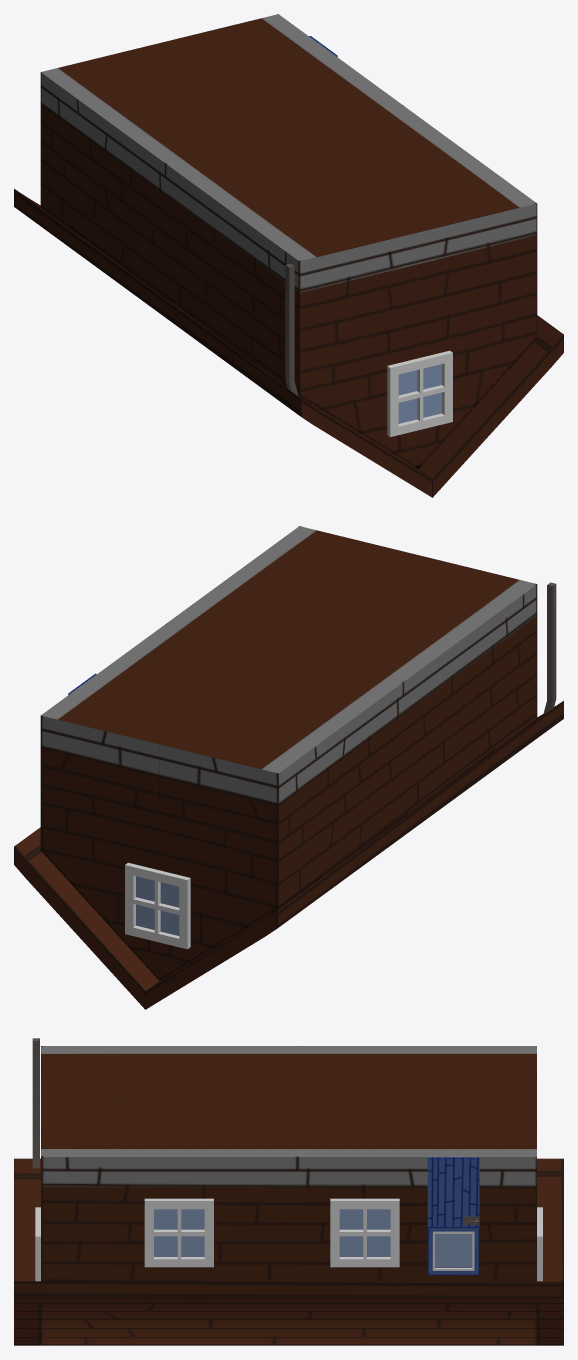
File: schuur.FBX
The picture shows the model from 3 angles, top to bottom: view 1: azimuth 30°, elevation 25°; view 2: azimuth 150°, elevation 25°; view 3: azimuth 270°, elevation 25°; orthographic projection. The views are drawn at different scales.
Parts seen in each view (by area): view 1: Schuur001; view 2: Schuur001; view 3: Schuur001.
Part boxes in pixels (x1,y1,x2,y2): Schuur001: [14, 14, 563, 497]; Schuur001: [14, 526, 563, 1009]; Schuur001: [14, 1038, 563, 1345].
Bounding box in the file's own units: 49835 × 45947 × 93530.
Materials: 1 (1 with a texture image).
